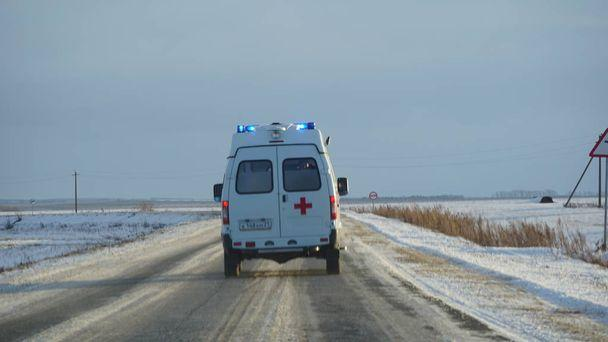ambulance_on: (213, 122, 351, 276)
